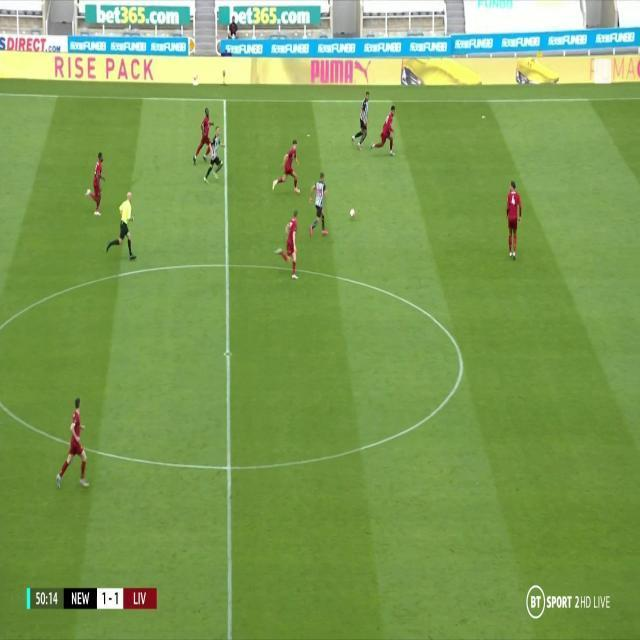ball: (348, 206, 356, 219)
player: (56, 394, 90, 494), (277, 208, 301, 281), (273, 137, 302, 197), (308, 170, 330, 240), (87, 151, 109, 221), (505, 179, 523, 263), (372, 104, 399, 158), (352, 89, 372, 153), (194, 105, 213, 172), (204, 126, 224, 186)
referee: (108, 191, 137, 262)
